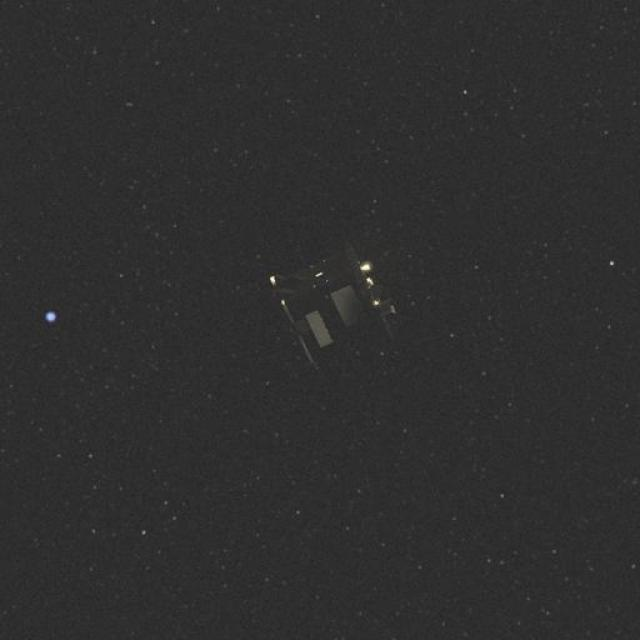proba_3_ocs: (233, 235, 426, 386)
